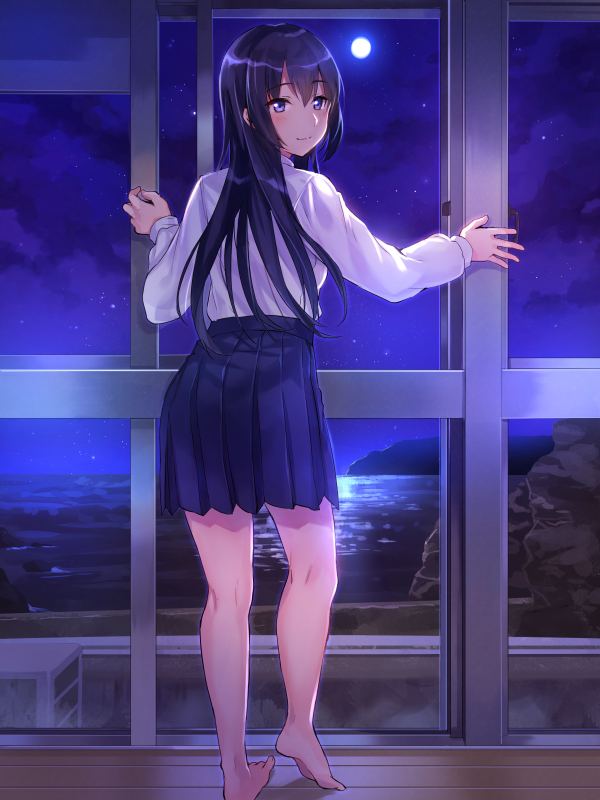纸片人正脸: (221, 24, 351, 163)
